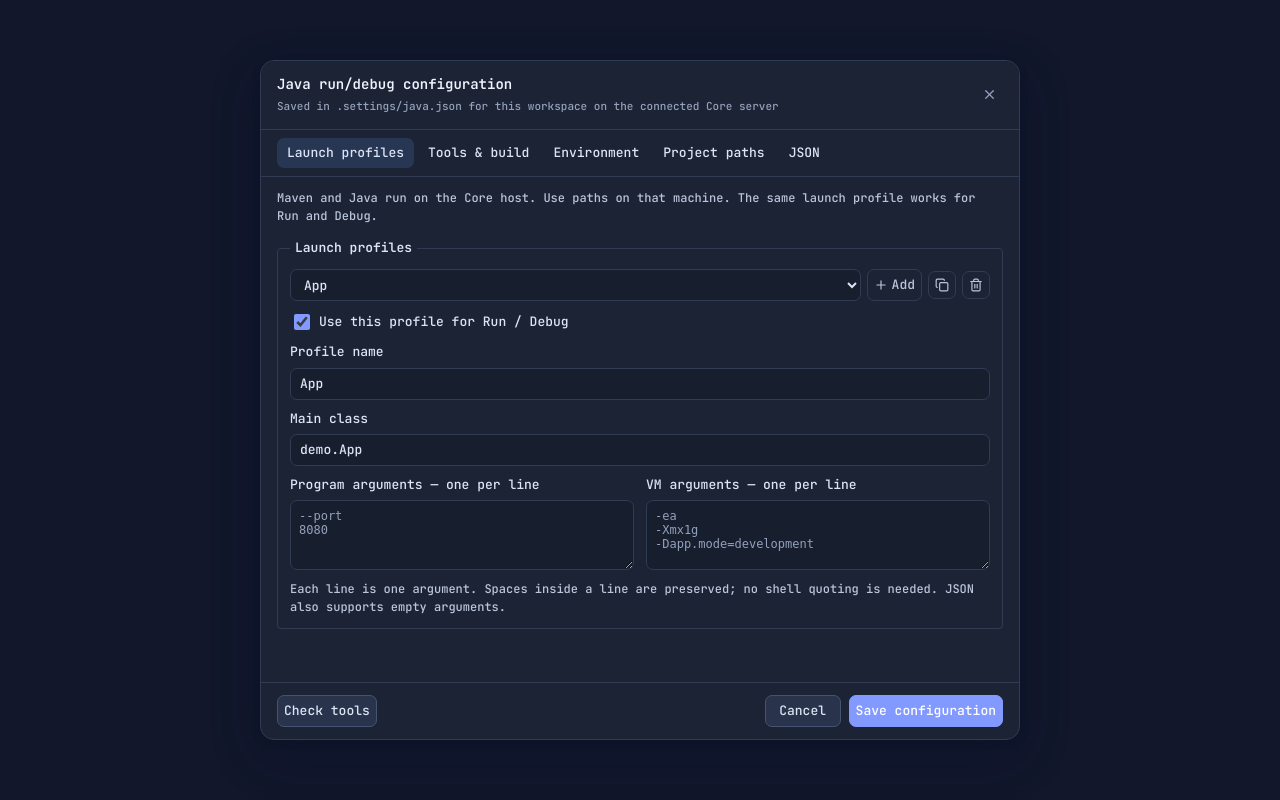
Test: checks unsaved settings and displays actionable tool errors
Check: the field labelled "Main class" is shown, box [290,434,990,466]
Click the tab "Tools & build": x=479, y=153 [418,138,539,168]
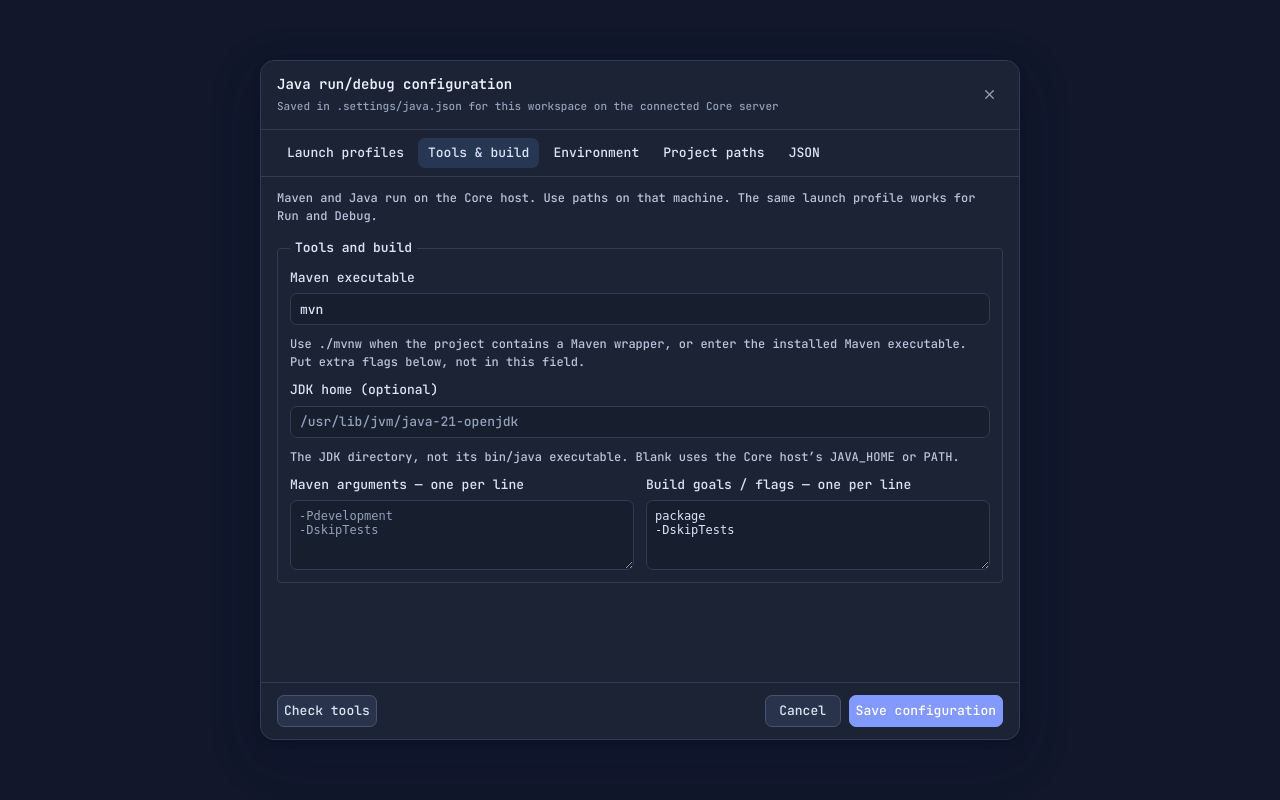
Replace the text in the field labelled "Maven executable" with "/opt/maven/bin/mvn": x=640, y=309 [290,293,990,325]
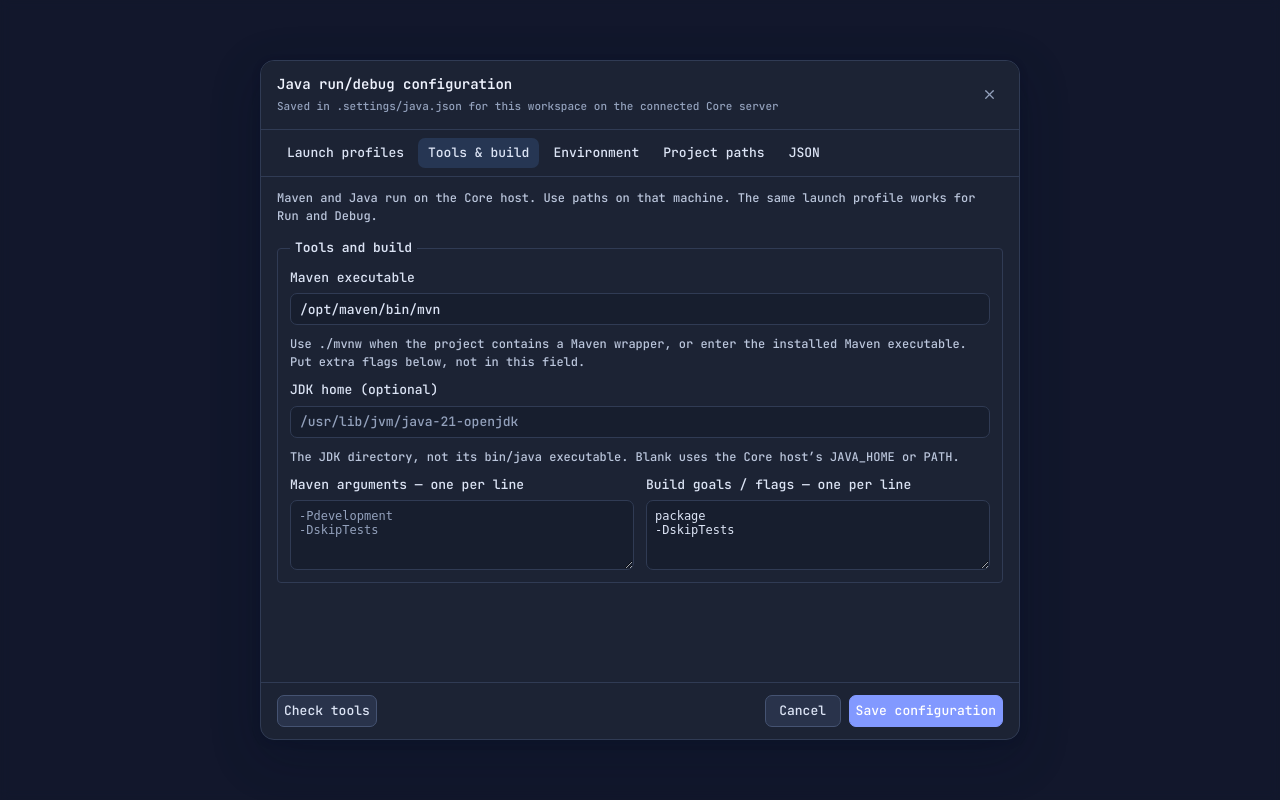
Click the button "Check tools": x=327, y=711 [277,695,377,727]
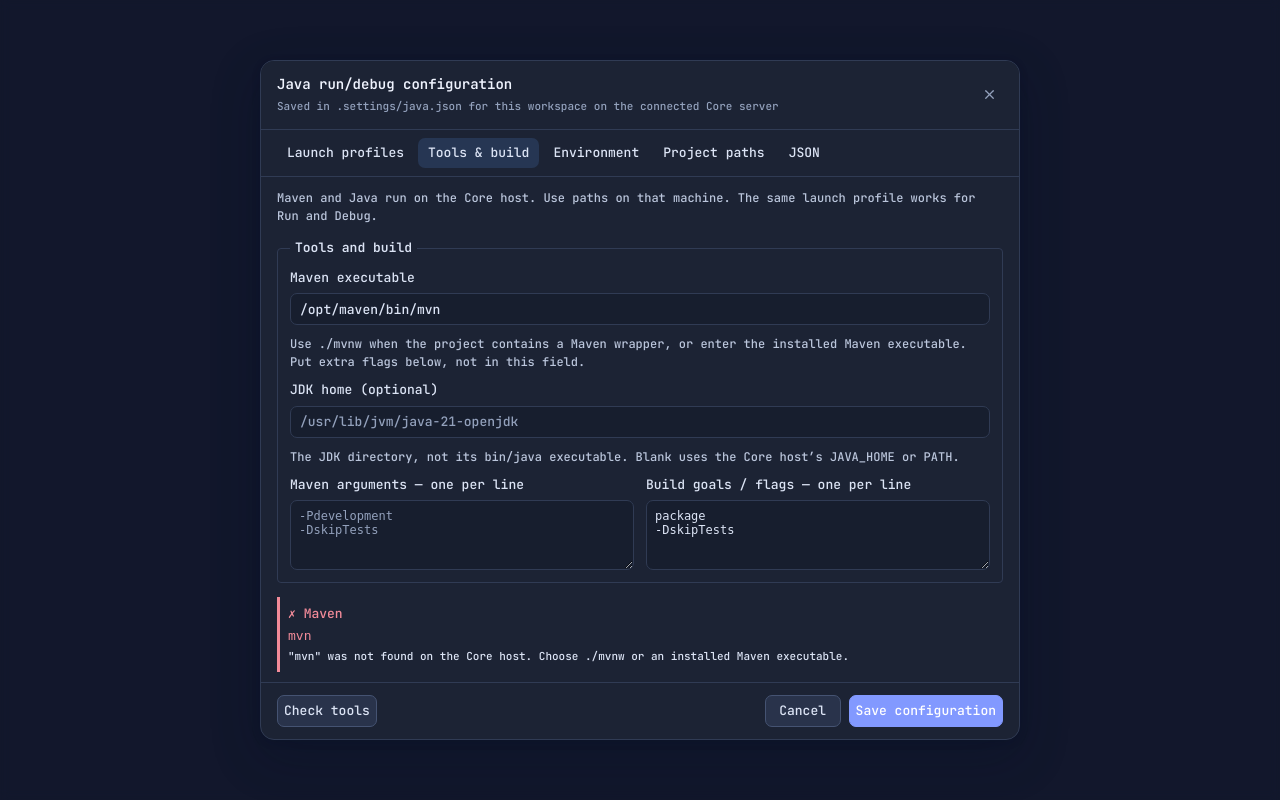
Check: the text "was not found on the Core host" is shown, box [288,649,849,663]
